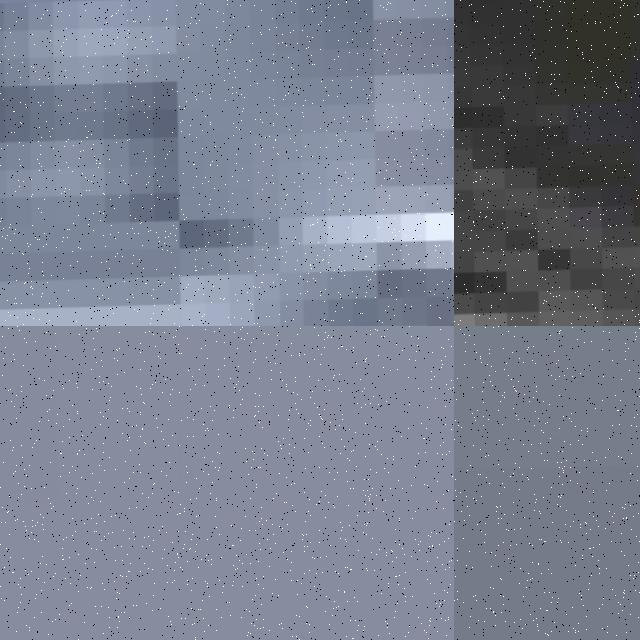drone: (0, 0, 454, 326), (454, 0, 640, 326)
